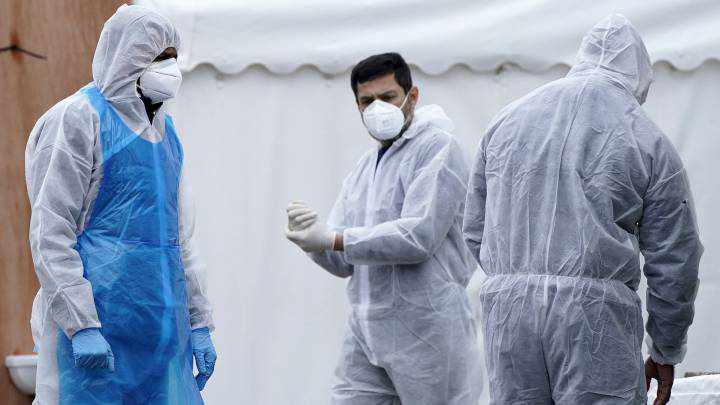Coverall: (461, 29, 696, 405), (29, 12, 219, 405)
Gloves: (181, 324, 220, 390), (68, 325, 115, 375), (283, 220, 337, 252), (282, 197, 321, 233)
with_mask: (358, 80, 406, 140), (136, 49, 182, 109)
